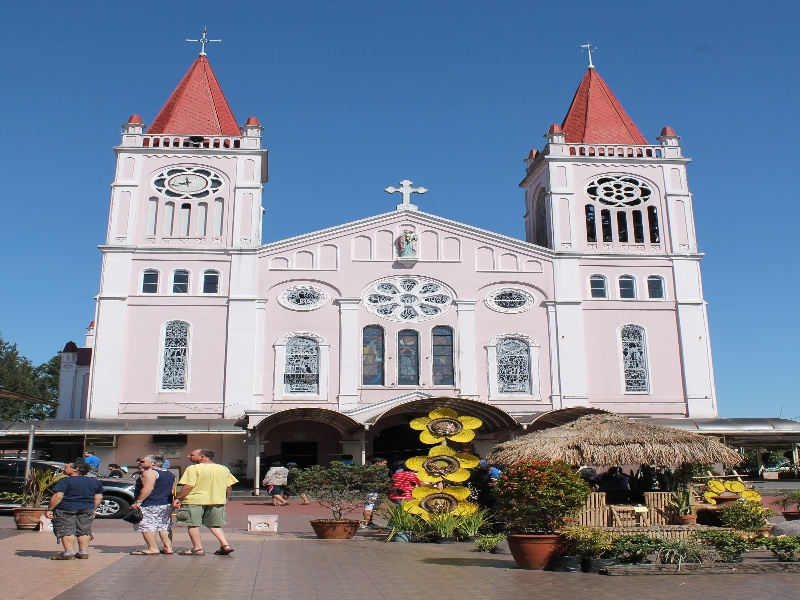Cathedral: (68, 6, 738, 525)
